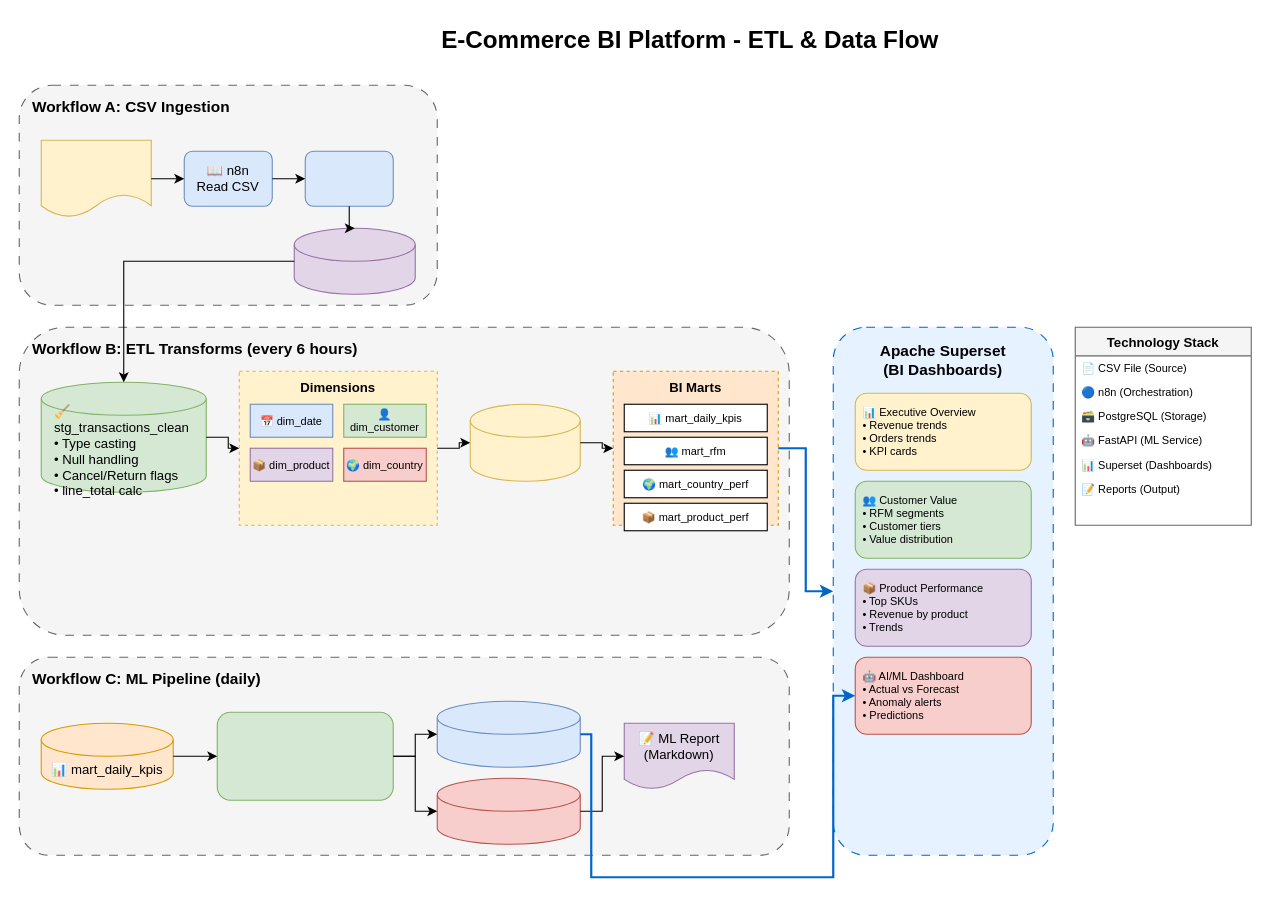
Image size: 1271x905. Some labels were removed from this diagram. The shapes that lost their labels are listed below. From the top down, each one's centre as x and y in pixels, then its label:
At point 95,178: "📄 data.csv (Kaggle Dataset) 541K records".
At point 348,178: "📦 Batch (1000 rows)".
At point 354,260: "🗃️ raw_transactions (Landing Zone)".
At point 524,442: "⭐ fact_sales (Star Schema)".
At point 508,733: "📈 ml_forecast_daily (7-day predictions)".
At point 304,755: "🤖 FastAPI ML Service • Prophet Forecasting • Isolation Forest Anomaly Detection".
At point 508,810: "⚠️ ml_anomalies_daily (Alerts)".
